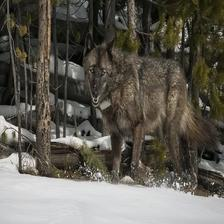WOLF: (84, 36, 181, 124)
